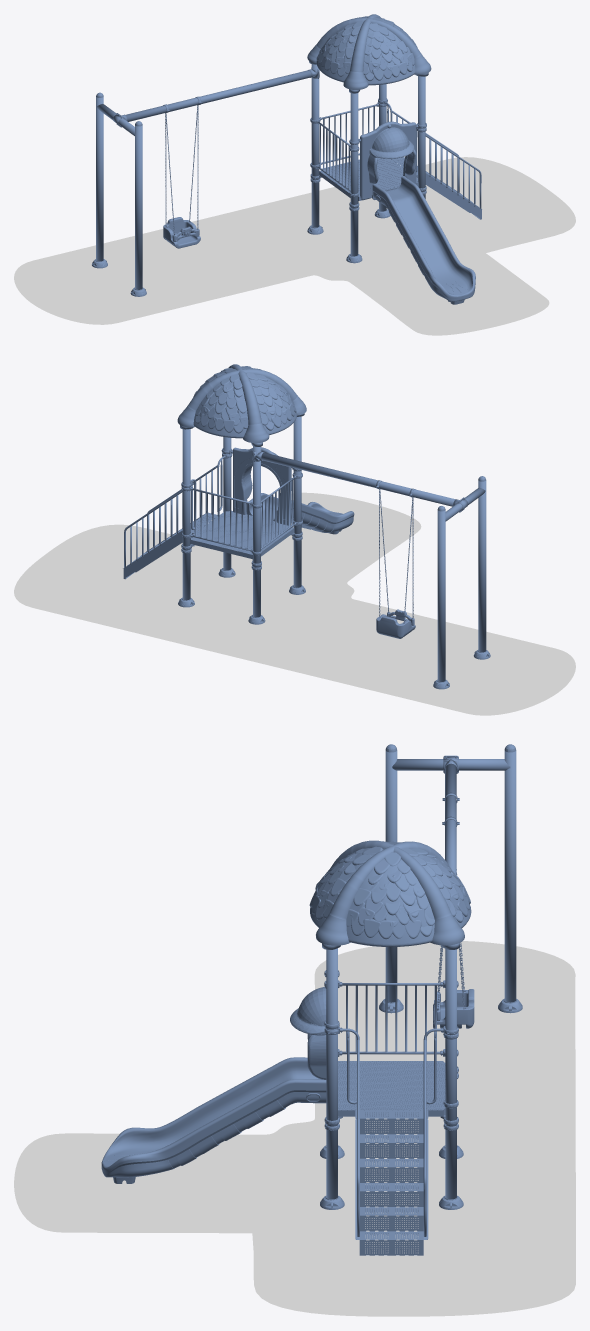
The model's file is swing.glb.
The picture shows the model from 3 angles, top to bottom: view 1: azimuth 30°, elevation 25°; view 2: azimuth 150°, elevation 25°; view 3: azimuth 270°, elevation 25°; orthographic projection. The views are drawn at different scales.
Parts seen in each view (by area): view 1: BézierCurve, LayerFBXASC058DFBXASC195FBXASC156ZFBXASC032KAYDIRAKLARMesh, LayerFBXASC058boru_ncl1_2Mesh, LayerFBXASC058BABAMesh, EKO-01 METAL VERSİYON, KARE KAU?UK PLATFORM, Loft003Mesh, LayerFBXASC058BEYAZ001Mesh, Loft002Mesh, Sphere001Mesh, LayerFBXASC058PLASTFBXASC196FBXASC176SOLFBXASC032SACFBXASC03, LayerFBXASC058RENK01Mesh (+3 smaller); view 2: BézierCurve, LayerFBXASC058boru_ncl1_2Mesh, LayerFBXASC058BABAMesh, KARE KAU?UK PLATFORM, EKO-01 METAL VERSİYON, LayerFBXASC058DFBXASC195FBXASC156ZFBXASC032KAYDIRAKLARMesh, Loft002Mesh, LayerFBXASC058BEYAZ_ncl1_1Mesh, LayerFBXASC058BEYAZ001Mesh, Loft003Mesh, LayerFBXASC058PLASTFBXASC196FBXASC176SOLFBXASC032SACFBXASC03, Sphere001Mesh (+3 smaller); view 3: BézierCurve, LayerFBXASC058DFBXASC195FBXASC156ZFBXASC032KAYDIRAKLARMesh, LayerFBXASC058PLASTFBXASC196FBXASC176SOLFBXASC032SACFBXASC03, LayerFBXASC058boru_ncl1_2Mesh, LayerFBXASC058BABAMesh, KARE KAU?UK PLATFORM, Sphere001Mesh, Loft002Mesh, Loft003Mesh, LayerFBXASC058BEYAZ001Mesh, EKO-01 METAL VERSİYON, LayerFBXASC058KORKULUK_ncl1_3Mesh (+1 smaller).
Boxes of the visible parts, x1,y1,x2,y2 form: BézierCurve: [14, 157, 575, 335]; LayerFBXASC058DFBXASC195FBXASC156ZFBXASC032KAYDIRAKLARMesh: [372, 176, 475, 304]; LayerFBXASC058boru_ncl1_2Mesh: [96, 67, 319, 289]; LayerFBXASC058BABAMesh: [311, 64, 425, 256]; EKO-01 METAL VERSİYON: [360, 121, 416, 200]; KARE KAU?UK PLATFORM: [319, 157, 418, 200]; Loft003Mesh: [307, 18, 431, 74]; LayerFBXASC058BEYAZ001Mesh: [318, 122, 350, 191]; Loft002Mesh: [343, 14, 380, 89]; Sphere001Mesh: [316, 20, 415, 85]; LayerFBXASC058PLASTFBXASC196FBXASC176SOLFBXASC032SACFBXASC03: [392, 157, 481, 219]; LayerFBXASC058RENK01Mesh: [163, 217, 200, 248]; BézierCurve: [14, 492, 575, 715]; LayerFBXASC058boru_ncl1_2Mesh: [252, 450, 486, 681]; LayerFBXASC058BABAMesh: [182, 416, 301, 617]; KARE KAU?UK PLATFORM: [190, 510, 294, 559]; EKO-01 METAL VERSİYON: [233, 447, 291, 525]; LayerFBXASC058DFBXASC195FBXASC156ZFBXASC032KAYDIRAKLARMesh: [246, 493, 354, 534]; Loft002Mesh: [177, 369, 306, 427]; LayerFBXASC058BEYAZ_ncl1_1Mesh: [192, 488, 250, 550]; LayerFBXASC058BEYAZ001Mesh: [261, 477, 294, 548]; Loft003Mesh: [228, 364, 269, 443]; LayerFBXASC058PLASTFBXASC196FBXASC176SOLFBXASC032SACFBXASC03: [123, 512, 217, 579]; Sphere001Mesh: [193, 367, 297, 438]; BézierCurve: [14, 941, 575, 1316]; LayerFBXASC058DFBXASC195FBXASC156ZFBXASC032KAYDIRAKLARMesh: [101, 1057, 326, 1183]; LayerFBXASC058PLASTFBXASC196FBXASC176SOLFBXASC032SACFBXASC03: [355, 1110, 428, 1255]; LayerFBXASC058boru_ncl1_2Mesh: [385, 750, 516, 1002]; LayerFBXASC058BABAMesh: [326, 948, 456, 1199]; KARE KAU?UK PLATFORM: [338, 1061, 445, 1116]; Sphere001Mesh: [310, 848, 471, 946]; Loft002Mesh: [315, 840, 464, 945]; Loft003Mesh: [316, 841, 454, 945]; LayerFBXASC058BEYAZ001Mesh: [342, 983, 440, 1054]; EKO-01 METAL VERSİYON: [290, 984, 326, 1079]; LayerFBXASC058KORKULUK_ncl1_3Mesh: [357, 1036, 426, 1236].
Bounding box in the file's own units: 219 × 90.57 × 138.
